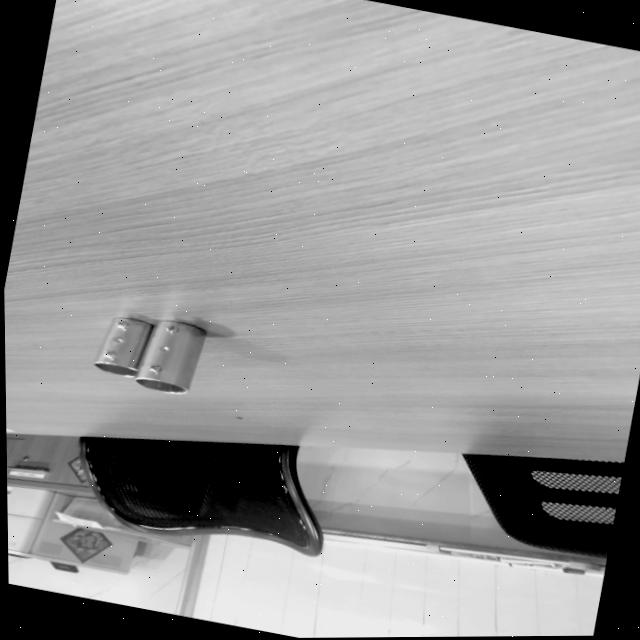Co_Lon: (133, 314, 208, 400)
Co_Nho: (92, 310, 154, 382)
